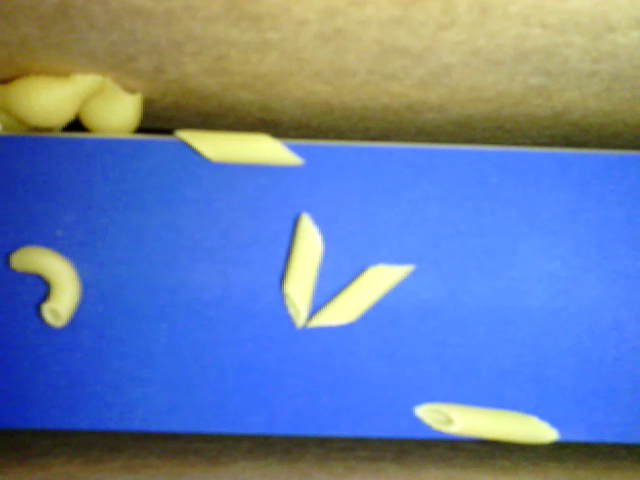elbow: (8, 239, 78, 325)
penne: (304, 258, 421, 332), (406, 399, 556, 443), (177, 131, 304, 168), (281, 210, 320, 329)
shell: (1, 73, 106, 120), (75, 77, 147, 137), (1, 109, 71, 133)
